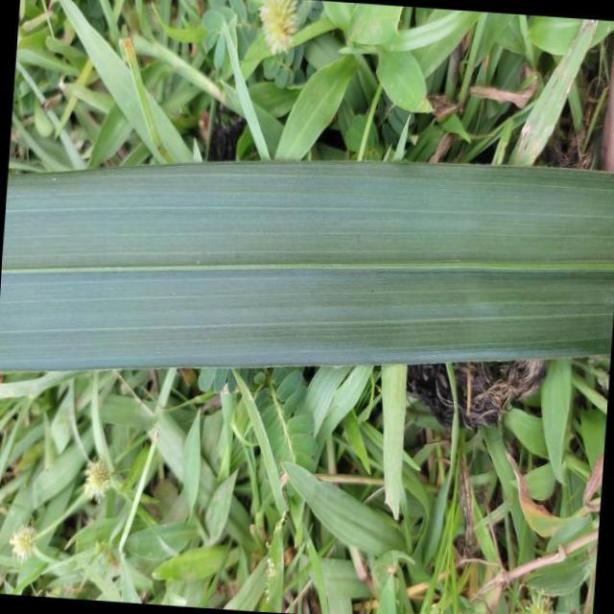Healthy: (5, 163, 614, 369)
